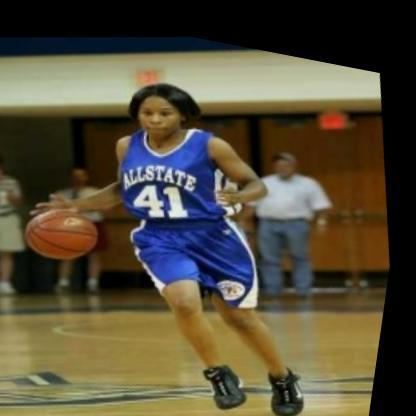basketball: (22, 195, 112, 267)
